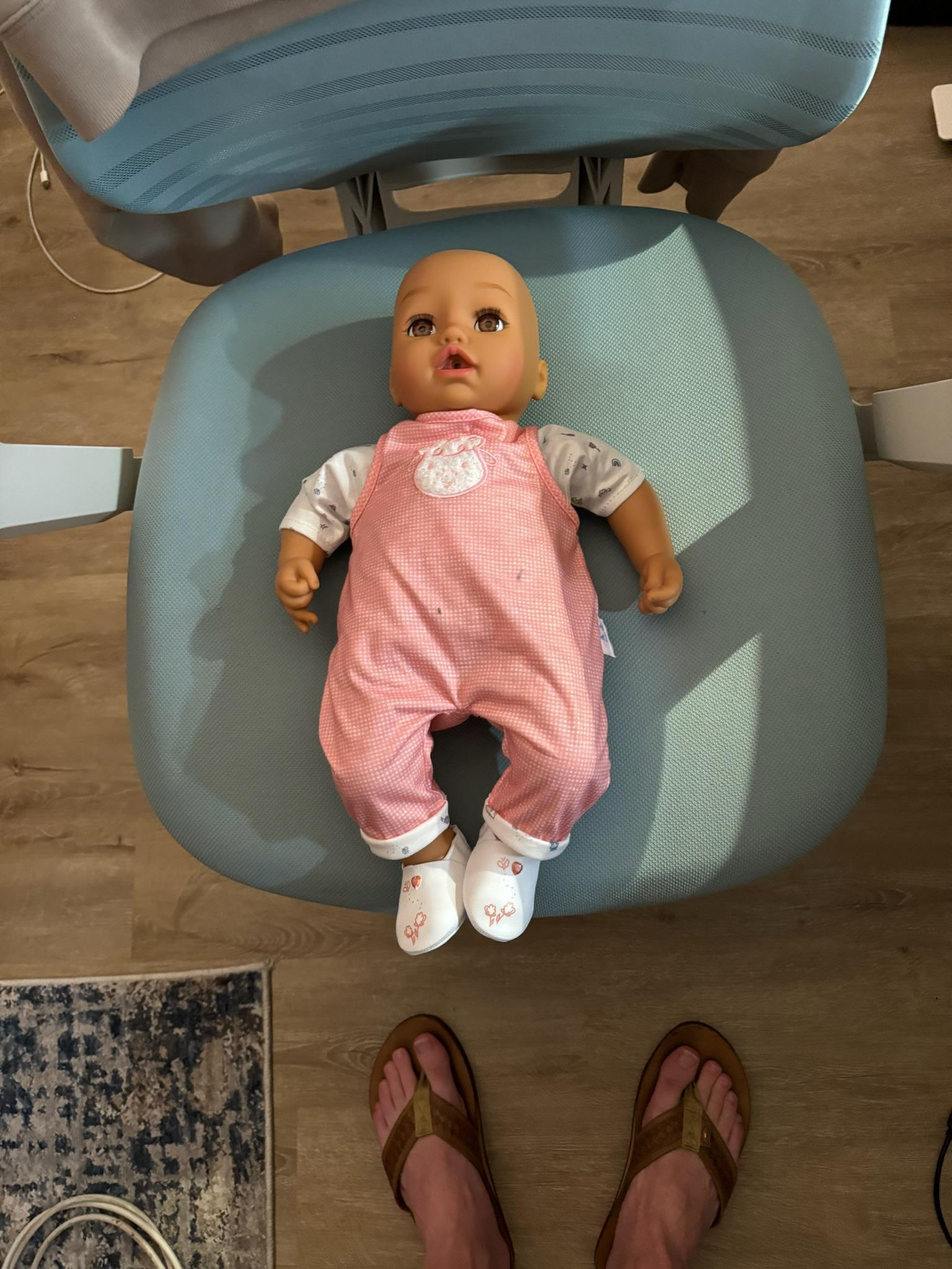baby: (267, 240, 682, 956)
